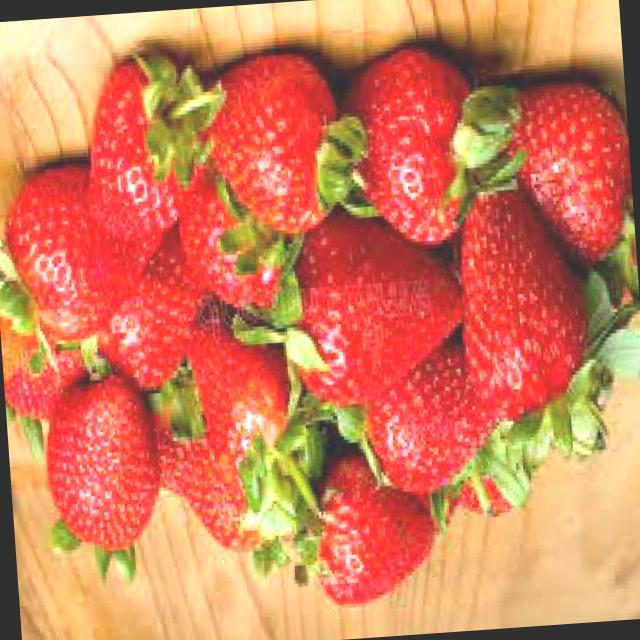Strawberry: (334, 38, 530, 253), (279, 207, 469, 415), (449, 184, 596, 428), (3, 157, 180, 347), (200, 49, 371, 242), (76, 48, 234, 247), (38, 372, 166, 589), (508, 76, 634, 272), (356, 338, 500, 500), (303, 447, 442, 614), (173, 166, 307, 324), (86, 229, 212, 394), (188, 313, 300, 480), (152, 419, 274, 566), (0, 330, 86, 426)
